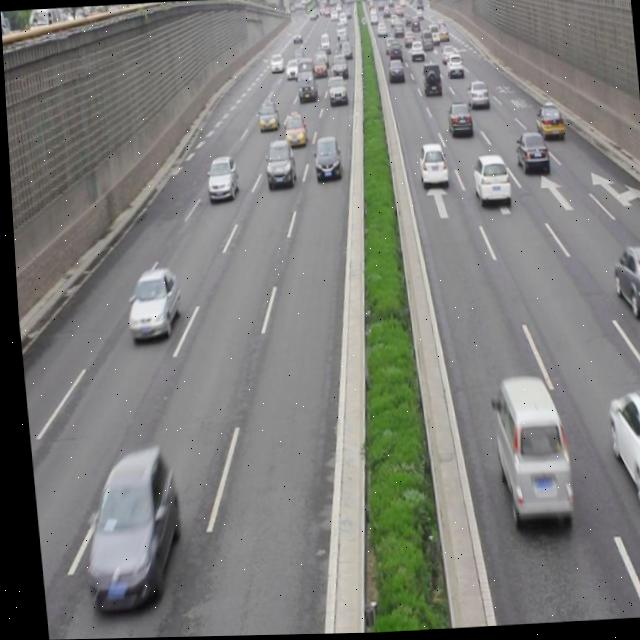car: (69, 442, 180, 615), (599, 389, 640, 518), (120, 266, 179, 342), (606, 246, 640, 319), (468, 154, 508, 206), (201, 154, 237, 201), (261, 140, 294, 189), (511, 132, 546, 177), (413, 142, 446, 187), (309, 135, 338, 183), (531, 104, 563, 143), (443, 100, 471, 140), (418, 60, 442, 102), (280, 113, 306, 151), (464, 79, 487, 113), (254, 100, 277, 131), (325, 75, 346, 106)
truck: (482, 375, 566, 522)
